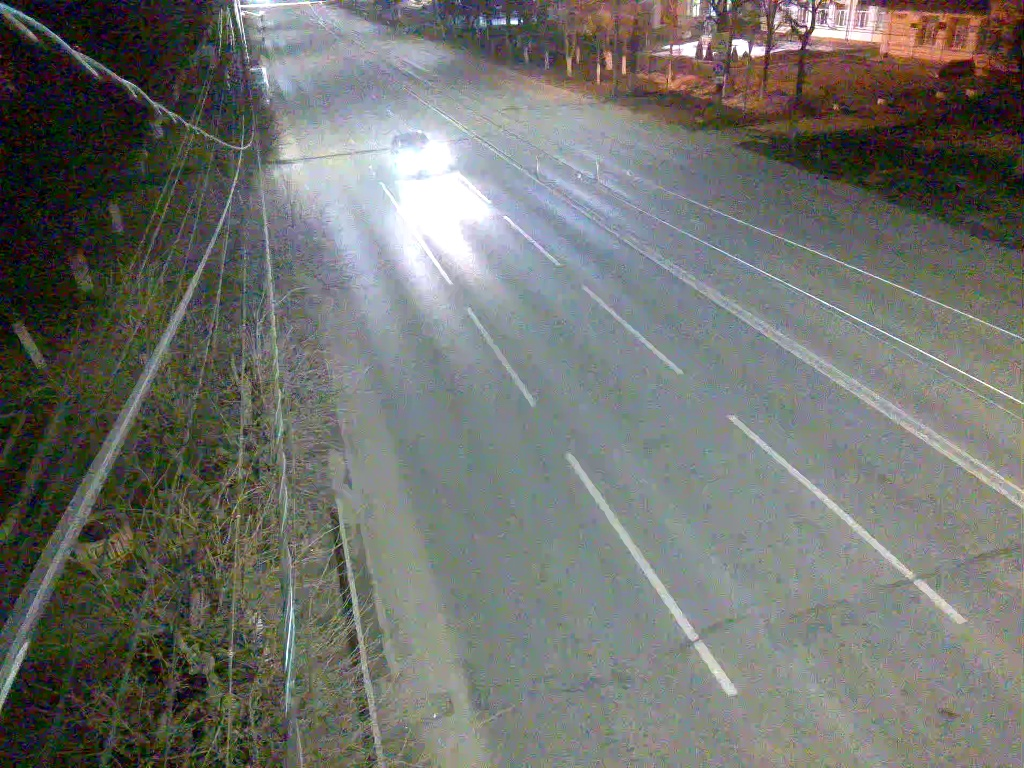car: (385, 127, 462, 188)
